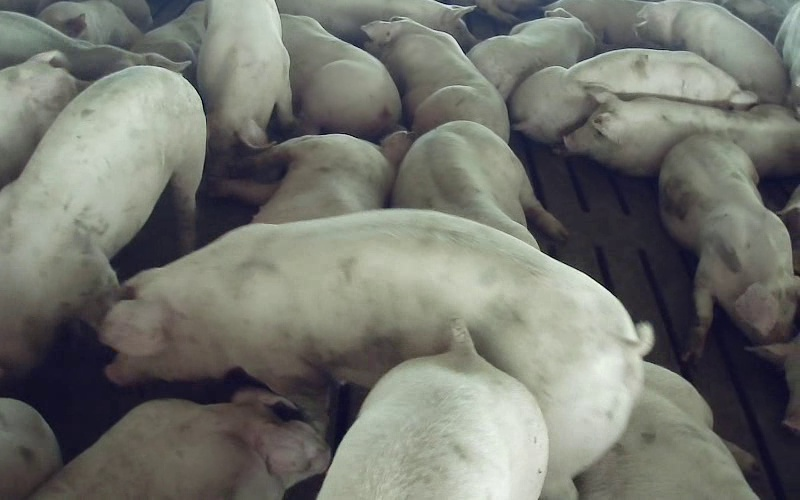pig: (102, 209, 652, 497), (0, 66, 205, 380), (318, 319, 548, 499), (31, 389, 329, 499), (659, 136, 799, 357), (575, 362, 758, 499), (509, 49, 756, 142), (391, 121, 567, 248), (564, 83, 799, 176), (208, 131, 411, 223), (362, 17, 508, 139), (634, 0, 787, 103), (282, 14, 400, 139), (467, 8, 595, 99), (276, 0, 476, 49)
